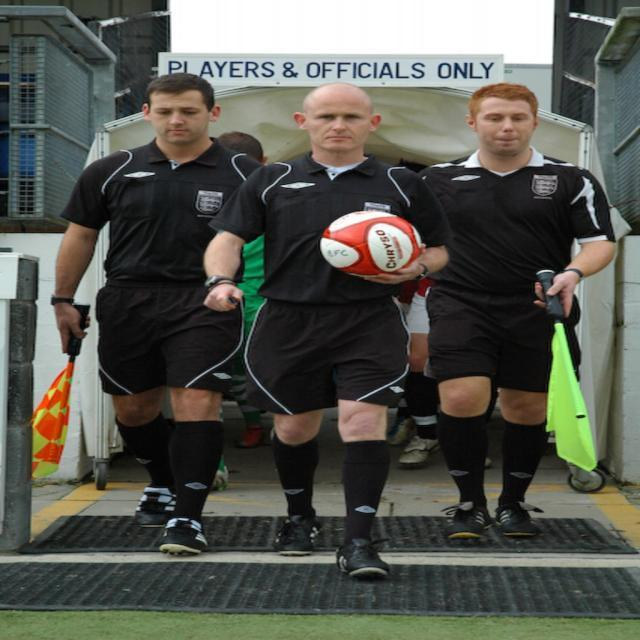football: (309, 196, 426, 290)
